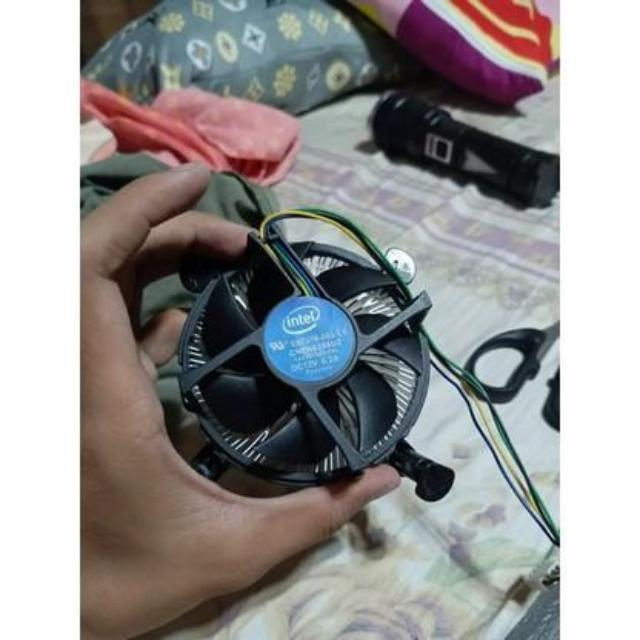CPU_Fan: (168, 230, 446, 492)
